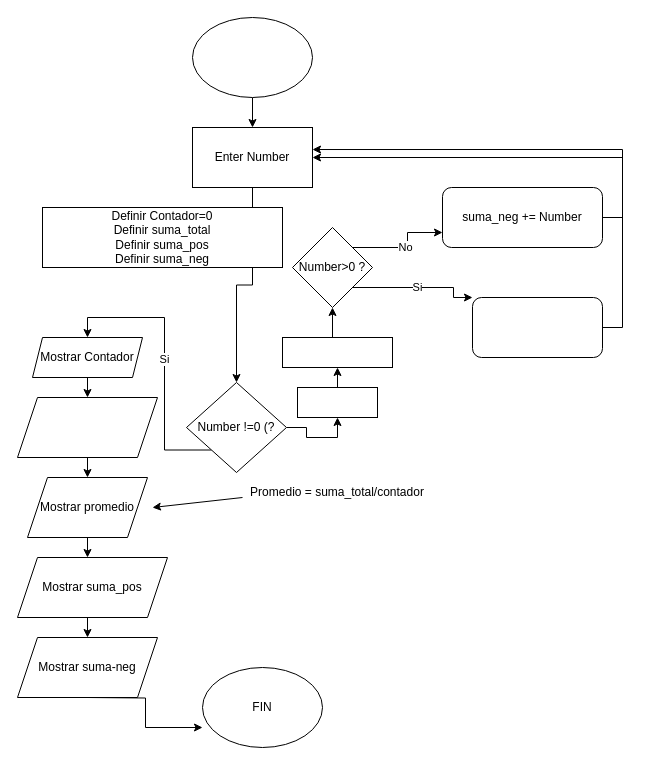
Image size: 648x765. Some labels were removed from this diagram. Here are the shapes that lost their labels. From the top down, the centre of each, then its label:
At point 252,57: "INICIO".
At point 537,327: "suma_pos += Number".
At point 337,352: "suma_total += Number".
At point 337,402: "Contador +1".
At point 87,427: "Mostrar suma_total".
